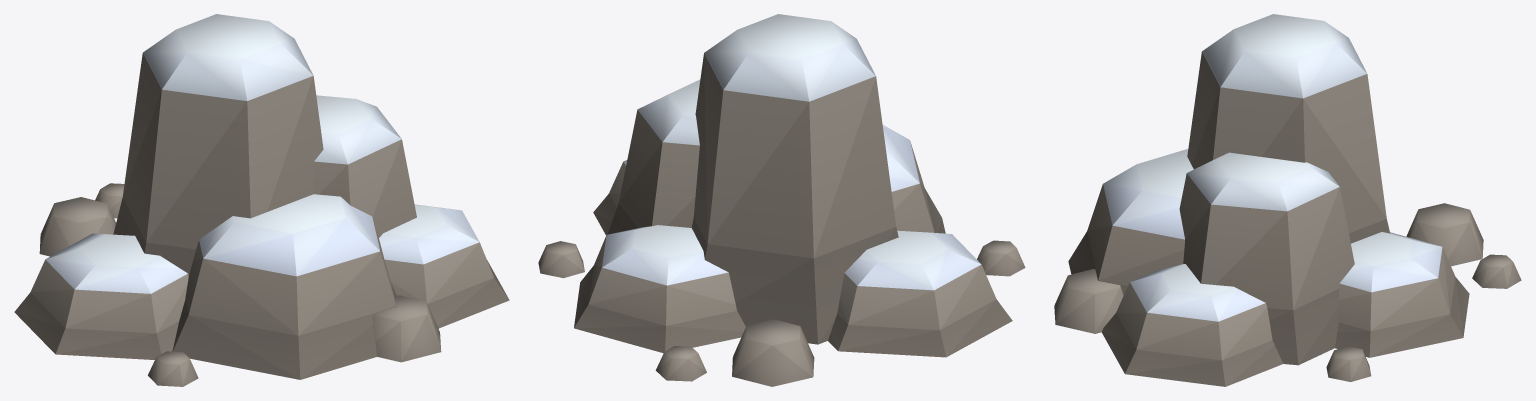
File: kenney_graveyard_rocks_tall.glb
3 renders of one model, left to right at view 1: azimuth 30°, elevation 25°; view 2: azimuth 150°, elevation 25°; view 3: azimuth 270°, elevation 25°, orthographic. The views are drawn at different scales.
Parts seen in each view (by area): view 1: stone, cloth; view 2: stone, cloth; view 3: stone, cloth.
Boxes of the visible parts, <box> form: stone: <box>14,53,509,386</box>; cloth: <box>45,14,479,293</box>; stone: <box>538,53,1025,386</box>; cloth: <box>602,14,981,290</box>; stone: <box>1054,52,1521,386</box>; cloth: <box>1103,14,1442,321</box>.
Bounding box in the file's own units: 1.03 × 0.5876 × 1.02.
